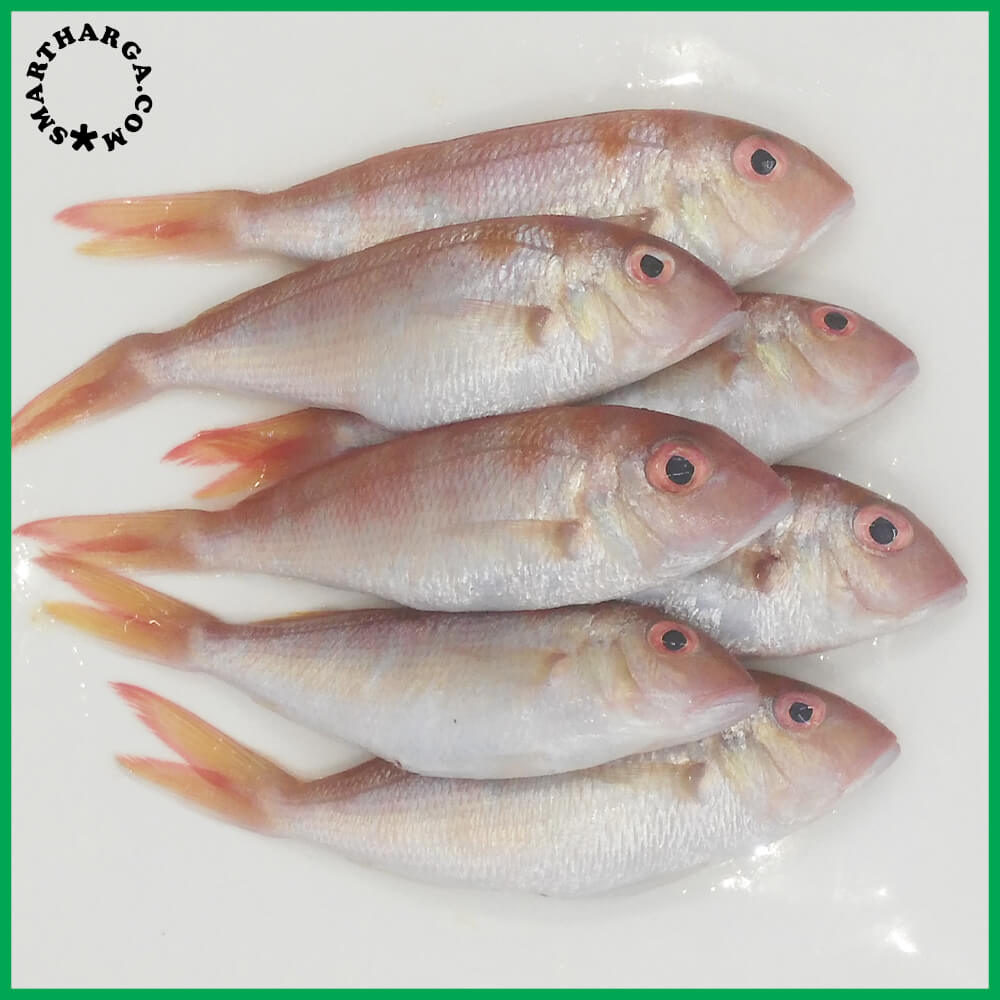Ikan Kerisi: (188, 678, 942, 895), (54, 205, 746, 428), (100, 400, 781, 622), (103, 576, 762, 774), (146, 81, 851, 266)
